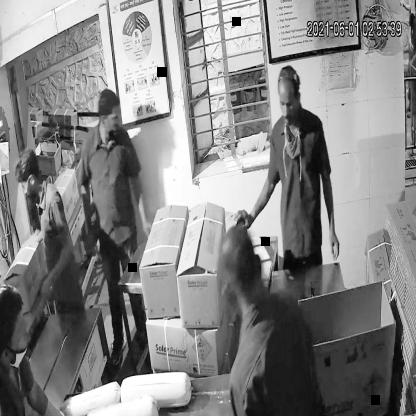no_goggles: (276, 91, 301, 115)
